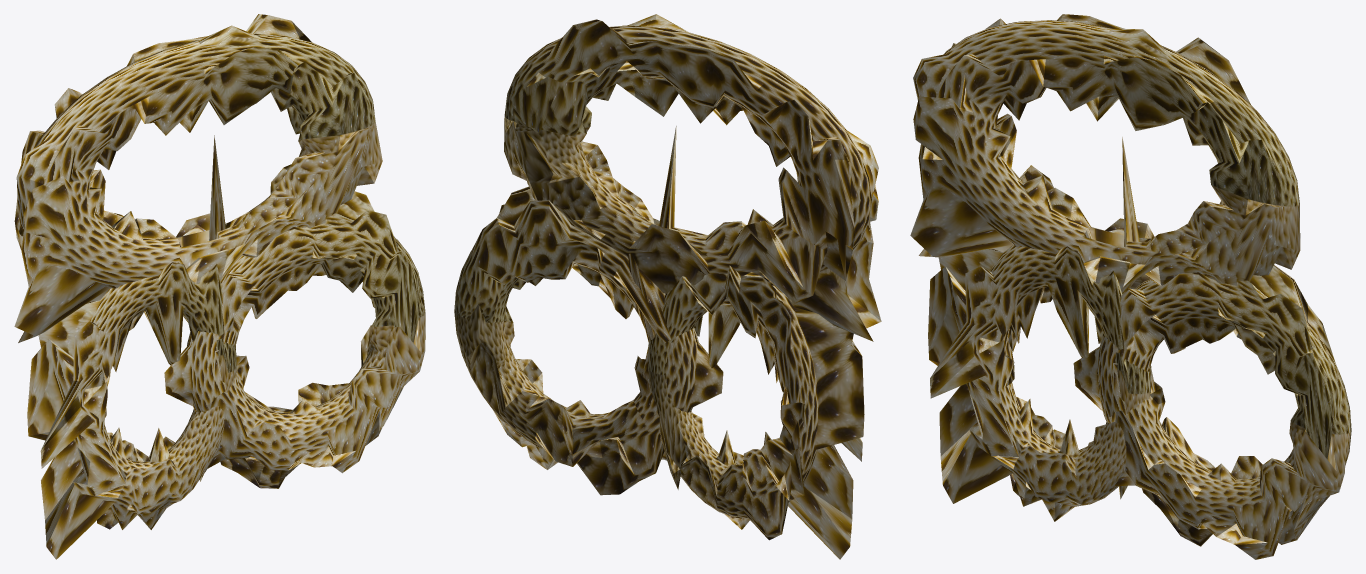
File: yellow coral.fbx
The picture shows the model from 3 angles, left to right: view 1: azimuth 30°, elevation 25°; view 2: azimuth 150°, elevation 25°; view 3: azimuth 330°, elevation 25°; orthographic projection. The views are drawn at different scales.
Parts seen in each view (by area): view 1: Torus_2; view 2: Torus_2; view 3: Torus_2.
Part boxes in pixels (bbox=[...]): Torus_2: bbox=[14, 14, 425, 559]; Torus_2: bbox=[454, 14, 881, 559]; Torus_2: bbox=[910, 14, 1351, 559].
Size of the model in its own units: 1488 by 1687 by 139.
Materials: 1 (1 with a texture image).
